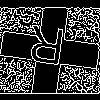R: (25, 25, 67, 75)
